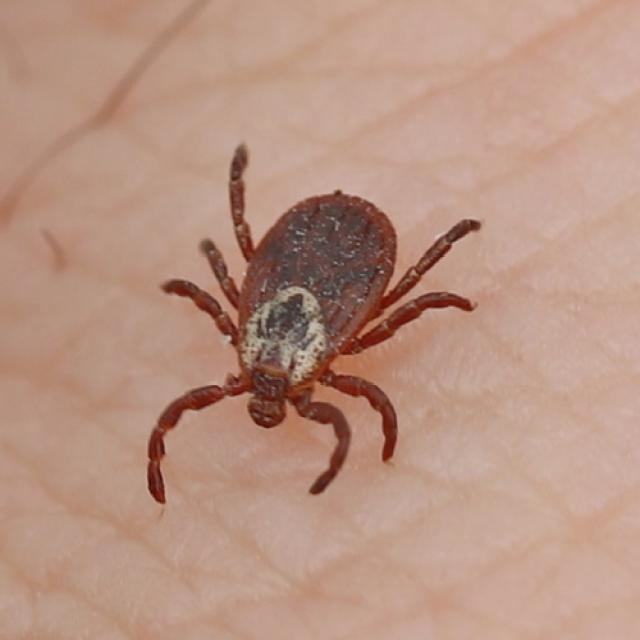Dermacentor Reticulatus-F: (147, 146, 481, 504)
